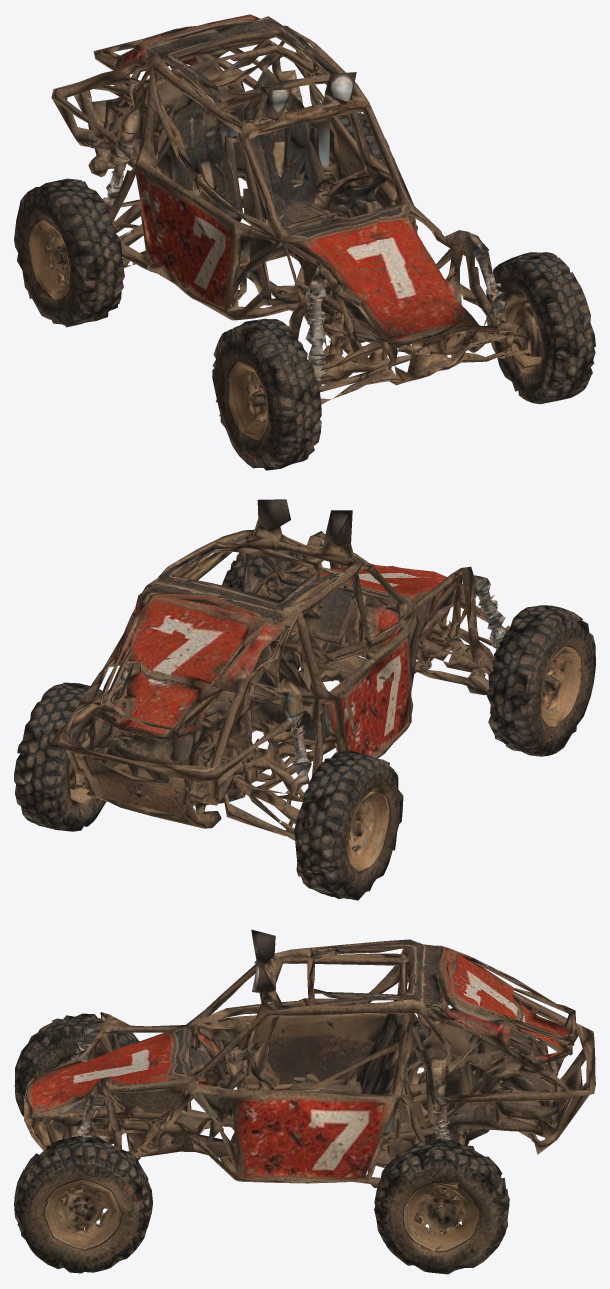
Rendered from buggy7_proxy.glb.
The picture shows the model from 3 angles, top to bottom: view 1: azimuth 30°, elevation 25°; view 2: azimuth 150°, elevation 25°; view 3: azimuth 270°, elevation 25°; orthographic projection. The views are drawn at different scales.
Visible parts, largest first — view 1: Body, Wheel_FR, Wheel_RR, Wheel_FL, Wheel_RL; view 2: Body, Wheel_FR, Wheel_RR, Wheel_RL, Wheel_FL; view 3: Body, Wheel_RL, Wheel_FL, Wheel_FR, Wheel_RR.
Boxes of the visible parts, bbox=[...] form: Body: bbox=[51, 14, 507, 398]; Wheel_FR: bbox=[212, 287, 348, 470]; Wheel_RR: bbox=[14, 154, 150, 327]; Wheel_FL: bbox=[460, 252, 595, 404]; Wheel_RL: bbox=[311, 112, 394, 196]; Body: bbox=[52, 499, 504, 836]; Wheel_FR: bbox=[457, 585, 595, 756]; Wheel_RR: bbox=[270, 716, 403, 900]; Wheel_RL: bbox=[14, 682, 123, 831]; Wheel_FL: bbox=[222, 549, 313, 670]; Body: bbox=[24, 929, 595, 1183]; Wheel_RL: bbox=[365, 1103, 509, 1274]; Wheel_FL: bbox=[14, 1103, 152, 1273]; Wheel_FR: bbox=[14, 1013, 139, 1144]; Wheel_RR: bbox=[402, 1020, 489, 1145].
Size of the model in its own units: 2.26 by 1.86 by 3.79.
1 material, 1 textured.
